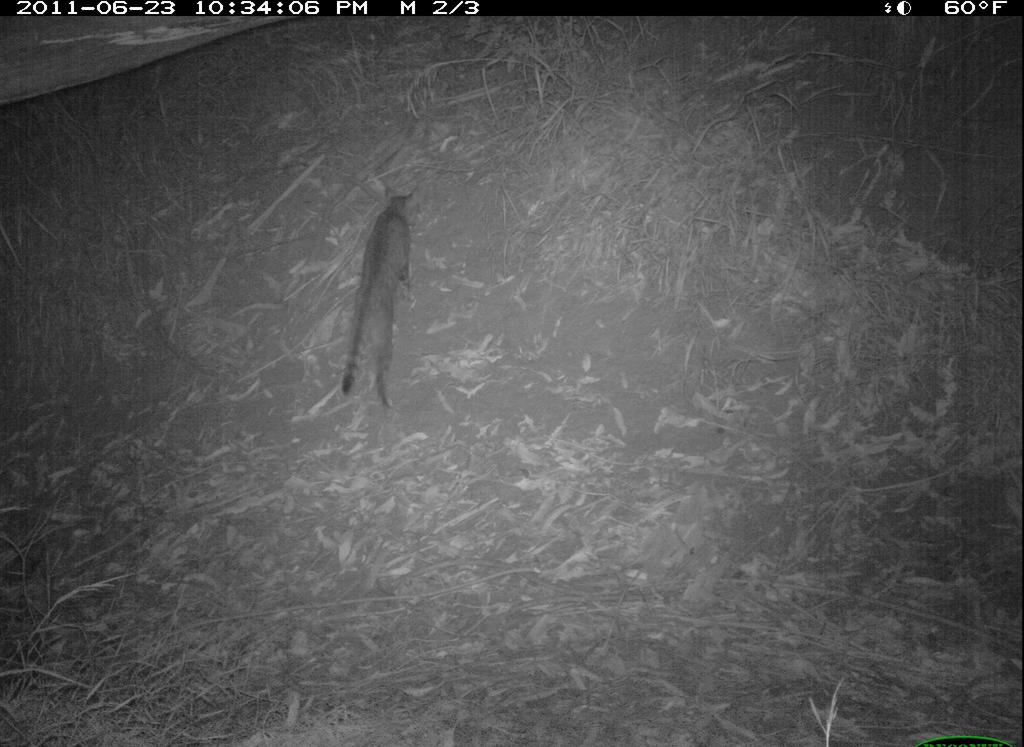cat: (334, 186, 418, 414)
